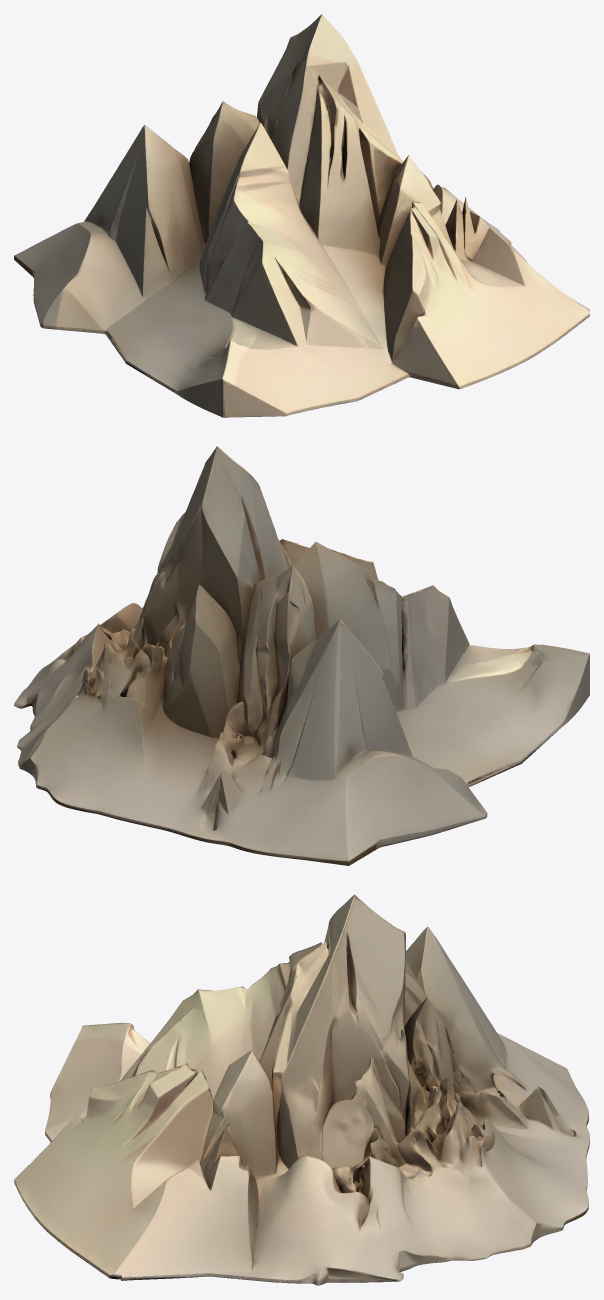
File: mountainT.glb
3 views of the same model, one above another, from view 1: azimuth 30°, elevation 25°; view 2: azimuth 150°, elevation 25°; view 3: azimuth 270°, elevation 25° (orthographic). The views are drawn at different scales.
Visible parts, largest first — view 1: model; view 2: model; view 3: model.
Boxes of the visible parts, x1,y1,x2,y2 form: model: [14, 14, 589, 417]; model: [14, 446, 589, 865]; model: [14, 894, 589, 1285].
Bounding box in the file's own units: 1.86 × 1.07 × 1.88.
Materials: 1 (1 with a texture image).
